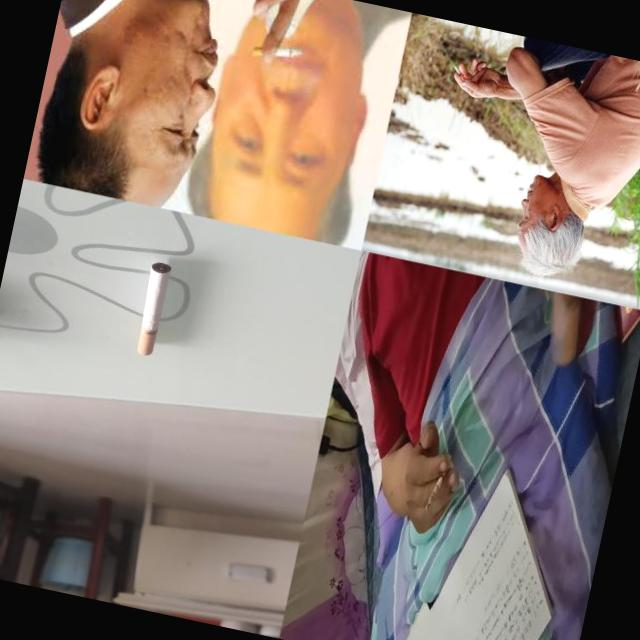smoke: (129, 259, 174, 357), (423, 451, 452, 515), (251, 38, 304, 66), (449, 62, 467, 82)
